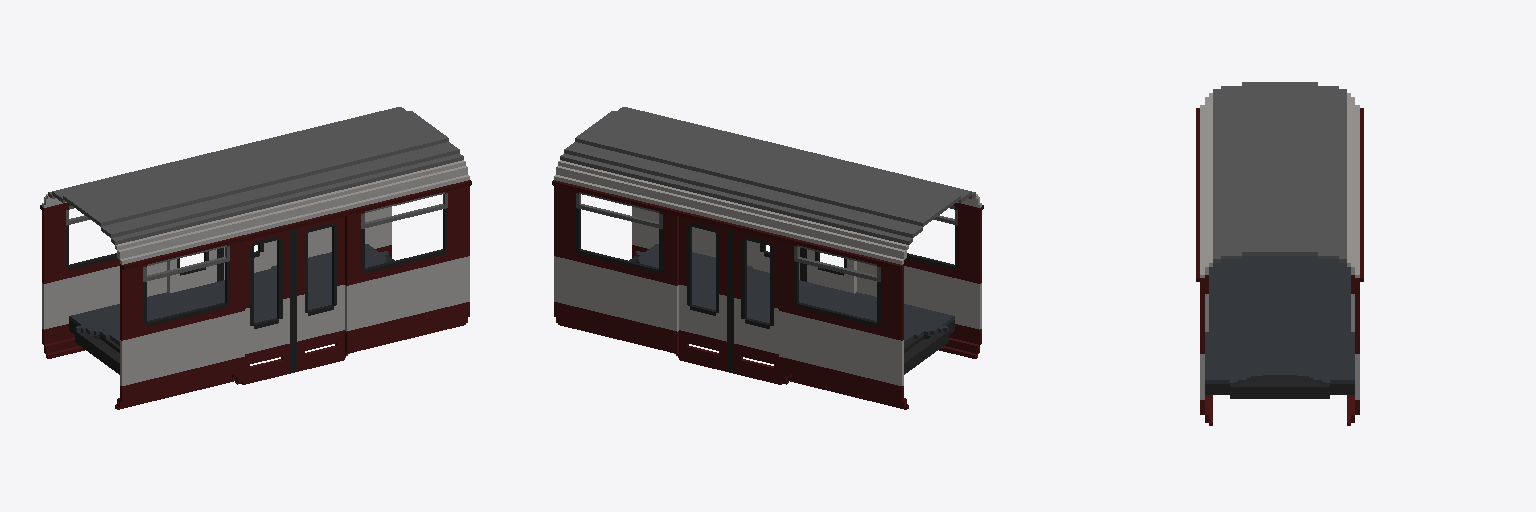
3 renders of one model, left to right at view 1: azimuth 30°, elevation 25°; view 2: azimuth 150°, elevation 25°; view 3: azimuth 270°, elevation 25°, orthographic.
Visible parts, largest first — view 1: FRAME; view 2: FRAME; view 3: FRAME.
Part boxes in pixels (bbox=[...]): FRAME: bbox=[40, 107, 471, 409]; FRAME: bbox=[552, 107, 983, 409]; FRAME: bbox=[1196, 82, 1363, 425].
Size of the model in its own units: 6.44 by 2.94 by 2.5.
Materials: 2 (1 with a texture image).